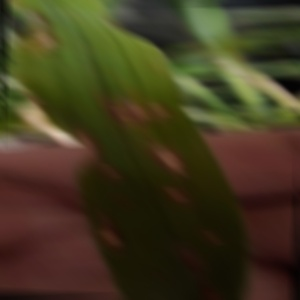Brown_Spot: (145, 135, 192, 180), (102, 96, 151, 130), (31, 25, 67, 59), (92, 222, 123, 251), (163, 184, 198, 205), (199, 226, 229, 249), (153, 93, 173, 125), (95, 161, 125, 180)
